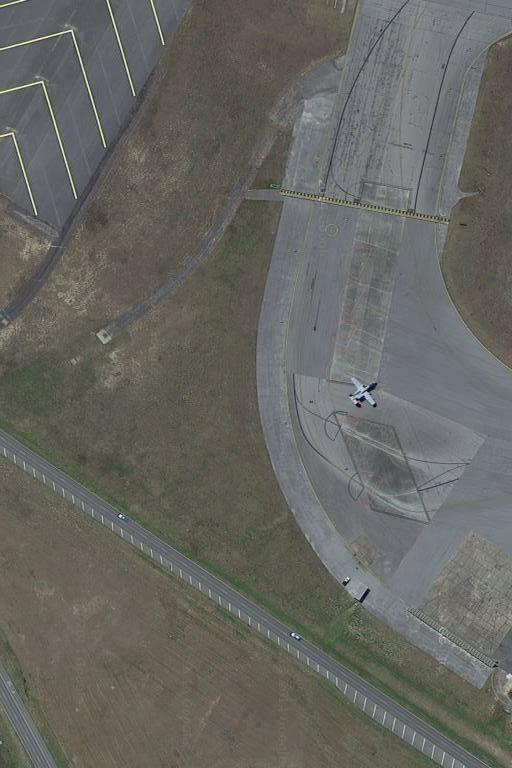A-10: (344, 369, 384, 416)
